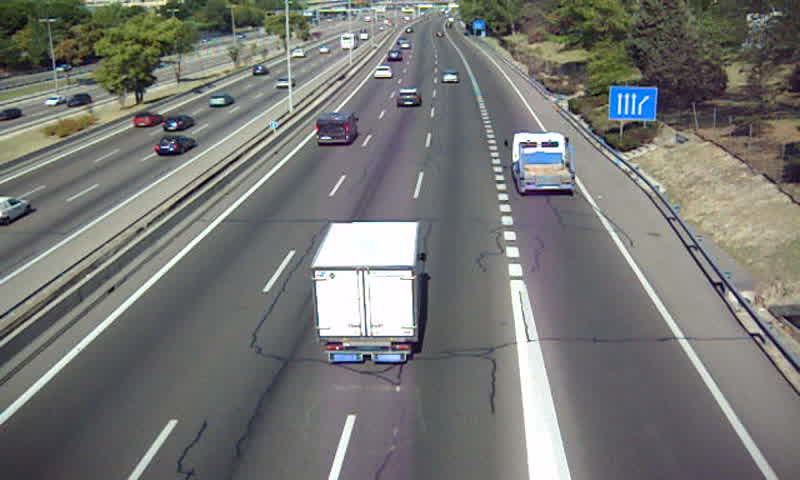car: (396, 87, 423, 110), (372, 65, 392, 82), (441, 70, 460, 85)
small-truck: (312, 221, 424, 361), (511, 130, 575, 193)
van: (314, 113, 358, 145)
